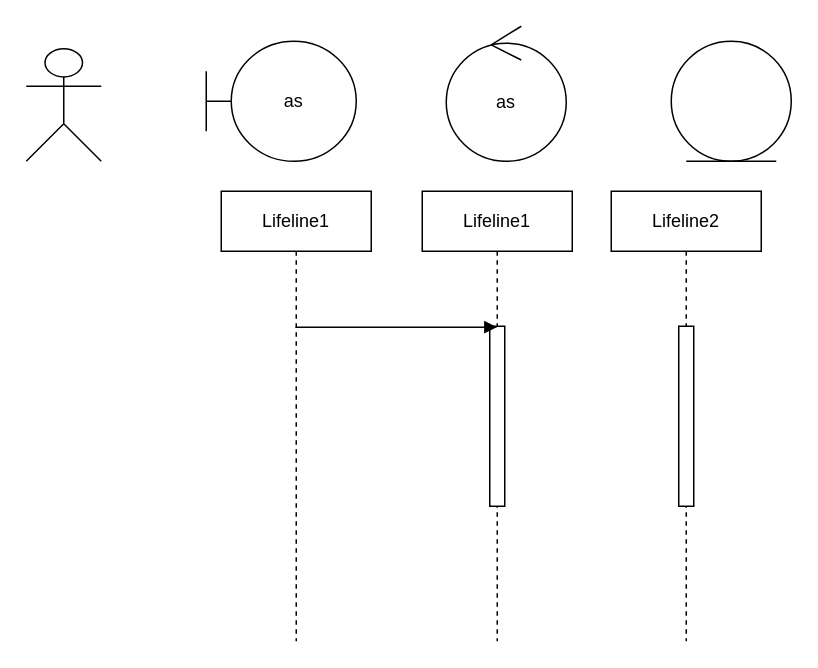
This 818x668 diagram has some shape labels left out. Here are the shapes that lost their labels. From the top down, the box of each, then its label:
(25, 47, 101, 161): Actor
(670, 40, 791, 161): Entity Object
